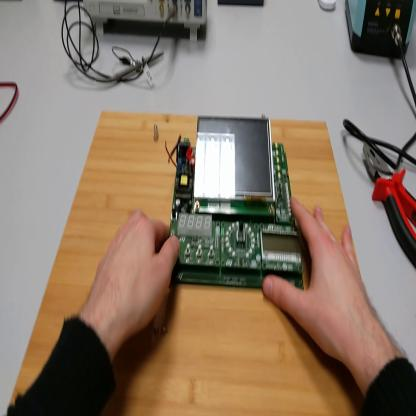hand: (264, 194, 371, 364), (87, 210, 179, 345)
low voltage board: (166, 120, 305, 297)
oscilloscope: (85, 2, 209, 46)
oscilloscope probe tip: (110, 51, 165, 84)
pliers: (363, 139, 416, 268)
welder station: (347, 2, 416, 60)
